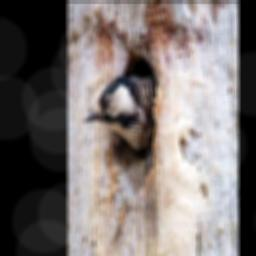Woodpecker: (84, 68, 155, 153)
